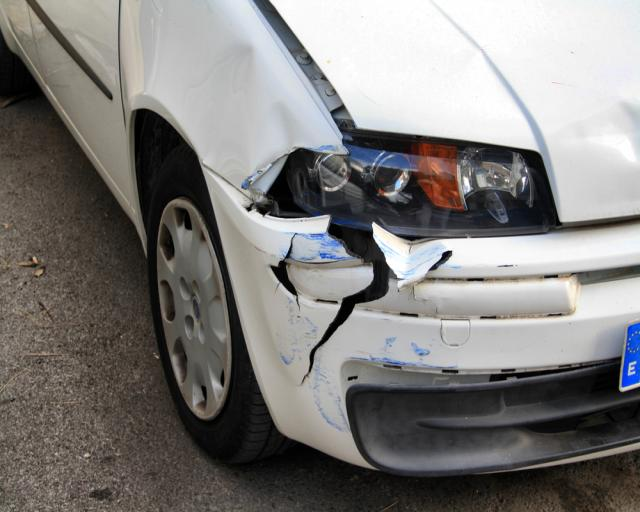crack: (300, 215, 391, 385), (269, 233, 300, 308), (424, 248, 454, 273)
dent: (182, 42, 299, 186), (558, 103, 640, 163)
scratch: (349, 332, 454, 371), (312, 354, 350, 433), (275, 298, 318, 365), (293, 230, 349, 266)
